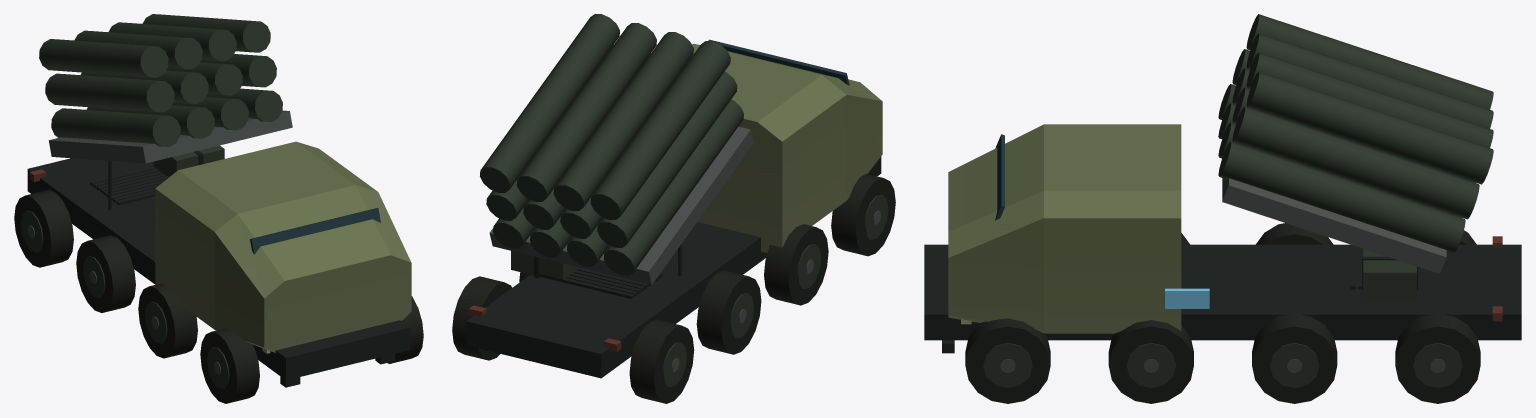
Rendered from mlrs-lod.glb.
3 views of the same model, side by side, from view 1: azimuth 30°, elevation 25°; view 2: azimuth 150°, elevation 25°; view 3: azimuth 270°, elevation 25° (orthographic). The views are drawn at different scales.
Visible parts, largest first — view 1: equipment (×2); view 2: equipment (×2); view 3: equipment (×2), marking.
Boxes of the visible parts, x1=… form: equipment (×2): x1=14, y1=14, x2=423, y2=403; equipment (×2): x1=452, y1=14, x2=895, y2=403; equipment (×2): x1=924, y1=14, x2=1521, y2=403; marking: x1=1165, y1=288, x2=1209, y2=308.
Size of the model in its own units: 2.84 by 3.8 by 6.7.
